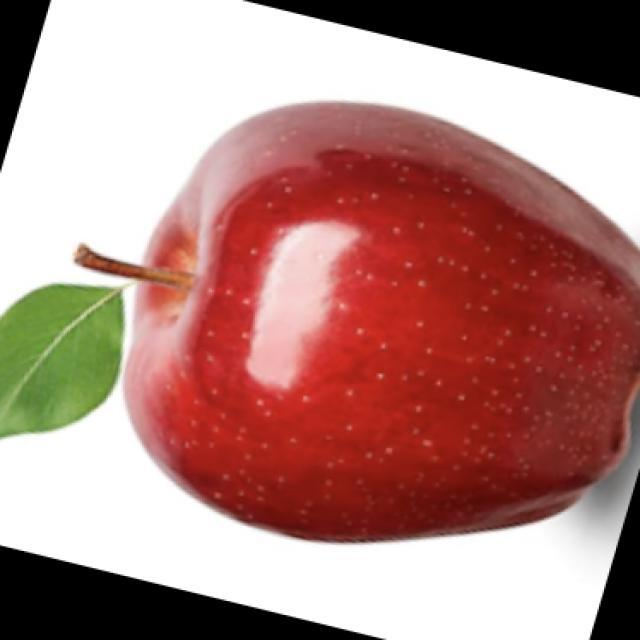Fresh Apple: (125, 102, 633, 540)
